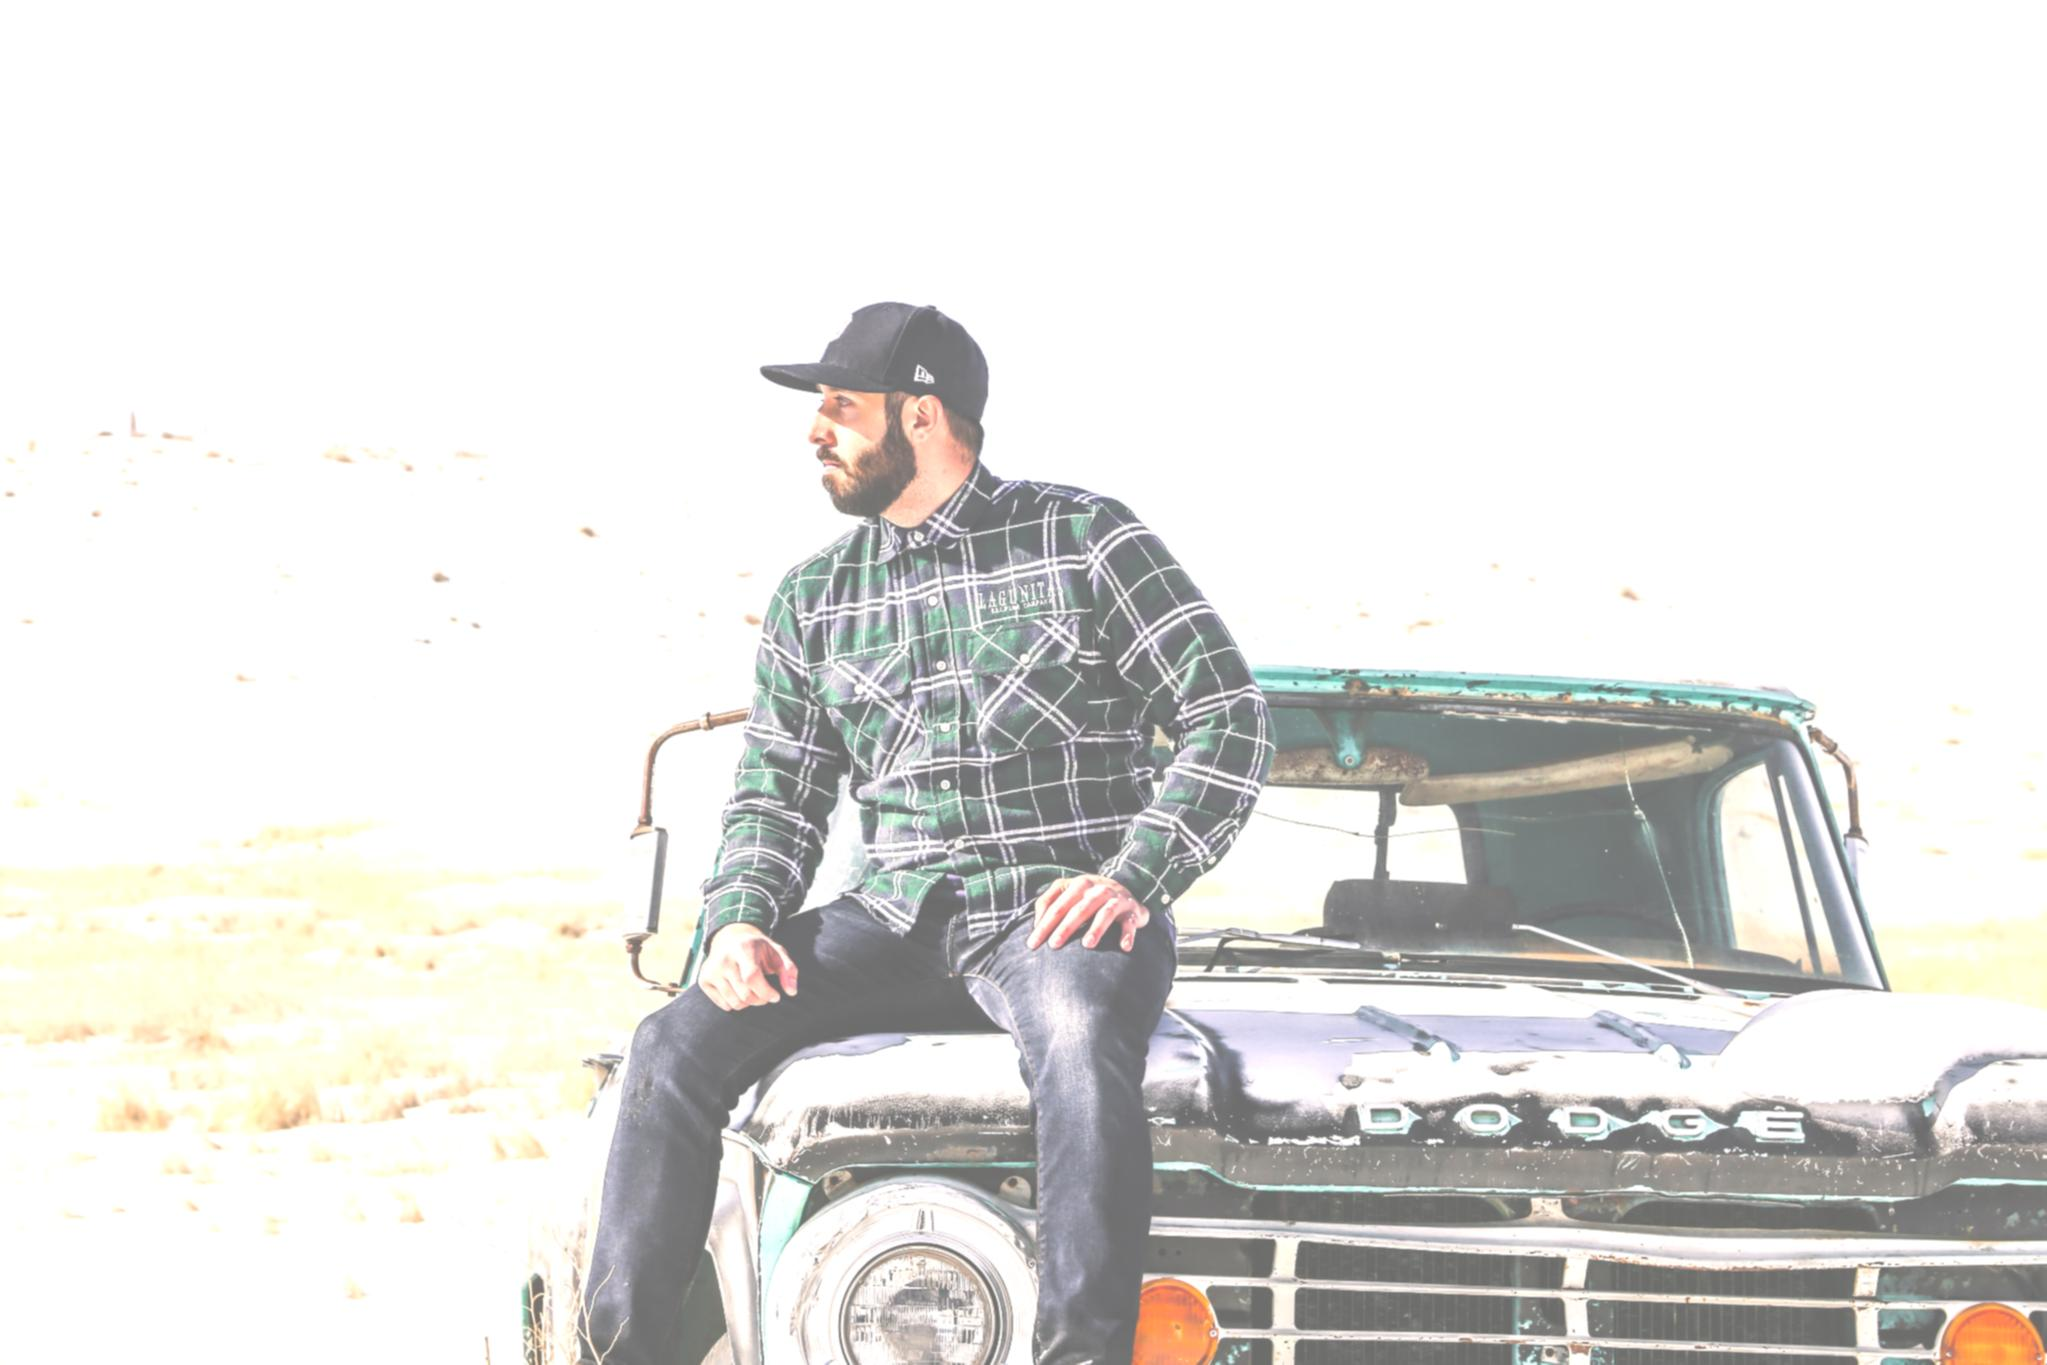dodge: (1339, 1080, 1841, 1178)
